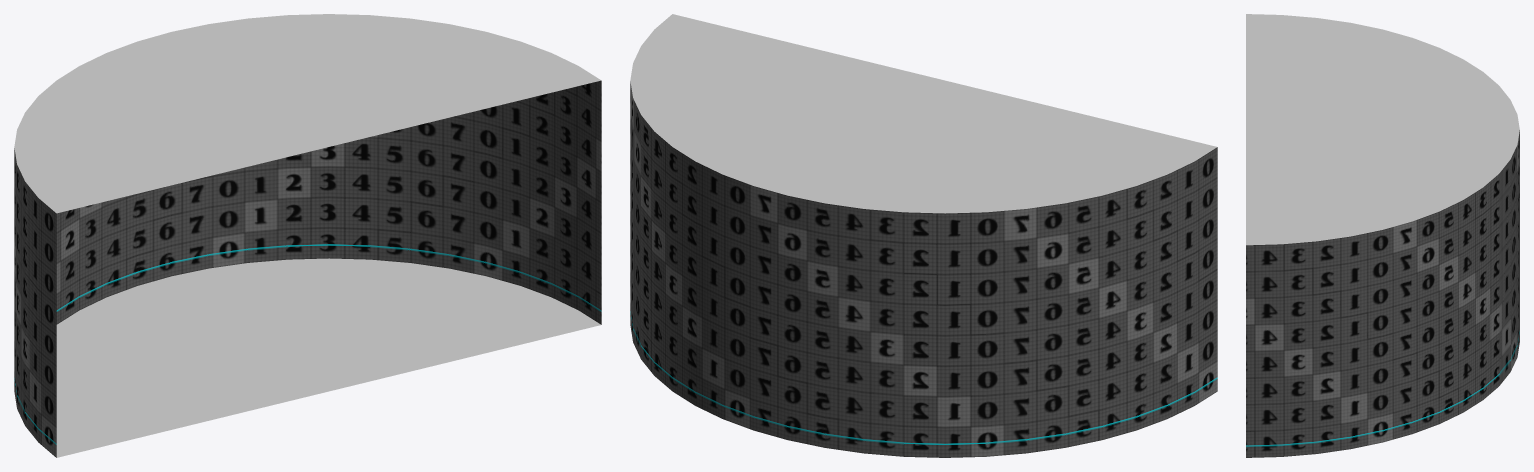
File: WallFrameEnd700x300xR350cm.FBX
3 views of the same model, side by side, from view 1: azimuth 30°, elevation 25°; view 2: azimuth 150°, elevation 25°; view 3: azimuth 270°, elevation 25° (orthographic). The views are drawn at different scales.
Parts seen in each view (by area): view 1: WallFrameEnd700x300xR350cm; view 2: WallFrameEnd700x300xR350cm; view 3: WallFrameEnd700x300xR350cm.
Boxes of the visible parts, x1,y1,x2,y2 form: WallFrameEnd700x300xR350cm: (14,14,601,457); WallFrameEnd700x300xR350cm: (630,14,1217,457); WallFrameEnd700x300xR350cm: (1246,14,1519,457).
Bounding box in the file's own units: 700 × 300 × 350.
